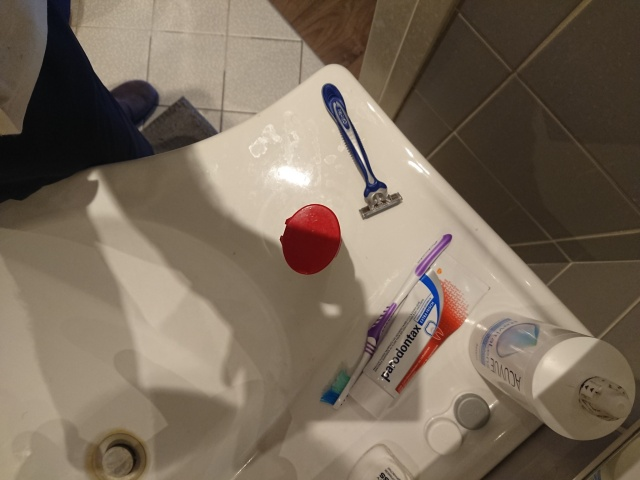Kotanyi Curry Spices Mix 70g: (278, 202, 344, 277)
